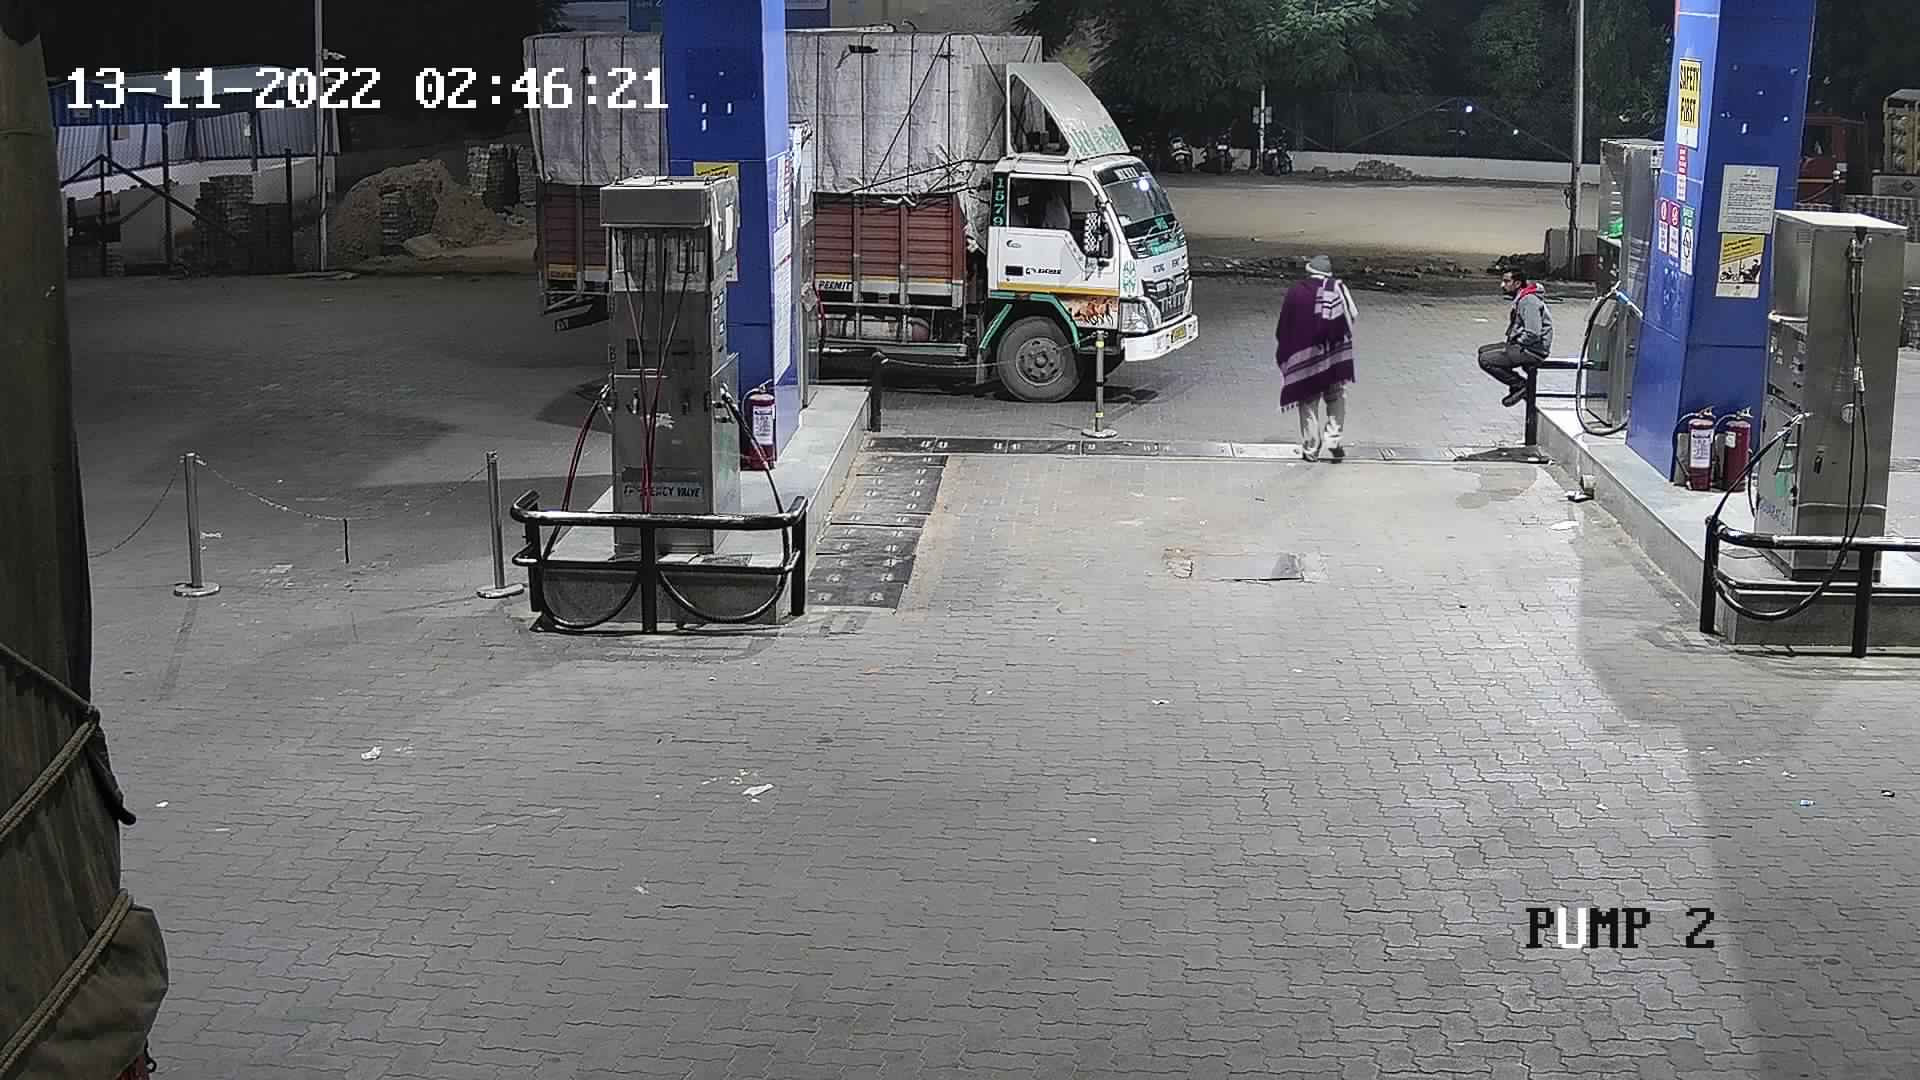Bike: (1254, 123, 1300, 182), (1156, 125, 1204, 177), (1203, 121, 1242, 182)
HMV: (0, 1, 191, 1076), (774, 12, 1213, 407), (1775, 59, 1913, 237)
Others: (1466, 257, 1563, 410)
